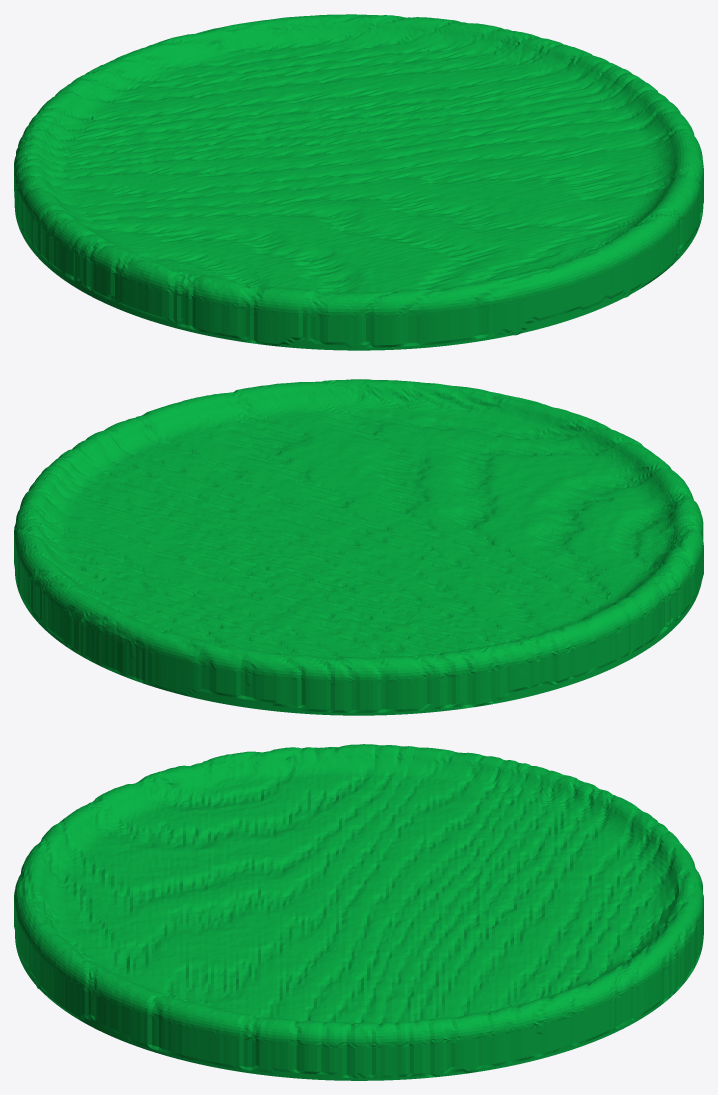
The picture shows the model from 3 angles, top to bottom: view 1: azimuth 30°, elevation 25°; view 2: azimuth 150°, elevation 25°; view 3: azimuth 270°, elevation 25°; orthographic projection.
Parts seen in each view (by area): view 1: wooden_filament_coaster_test_better.stl_fil1; view 2: wooden_filament_coaster_test_better.stl_fil1; view 3: wooden_filament_coaster_test_better.stl_fil1.
Boxes of the visible parts, x1,y1,x2,y2 form: wooden_filament_coaster_test_better.stl_fil1: [14, 14, 703, 350]; wooden_filament_coaster_test_better.stl_fil1: [14, 379, 703, 715]; wooden_filament_coaster_test_better.stl_fil1: [14, 744, 703, 1080].
Bounding box in the file's own units: 0.0882 × 0.00733 × 0.0882.
